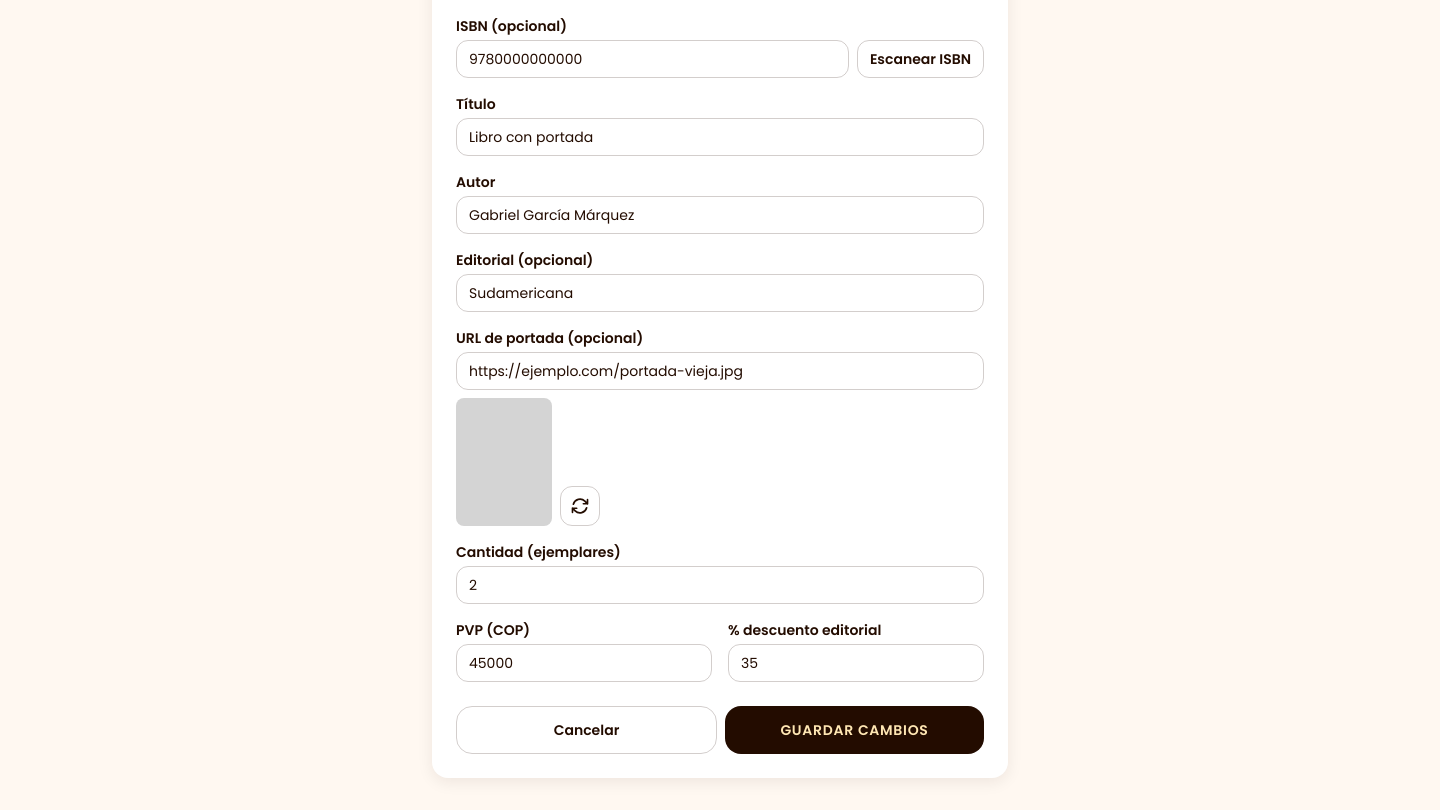
Test case: EditarLibroComponent › selector manual de portada › clic en el botón abre el selector y busca portadas con el isbn actual
The width and height of the screenshot is (1440, 810).
(page scrolled)
Step 1. Click the button named "Buscar otra portada" → point(580, 506), box [560,486,600,526]
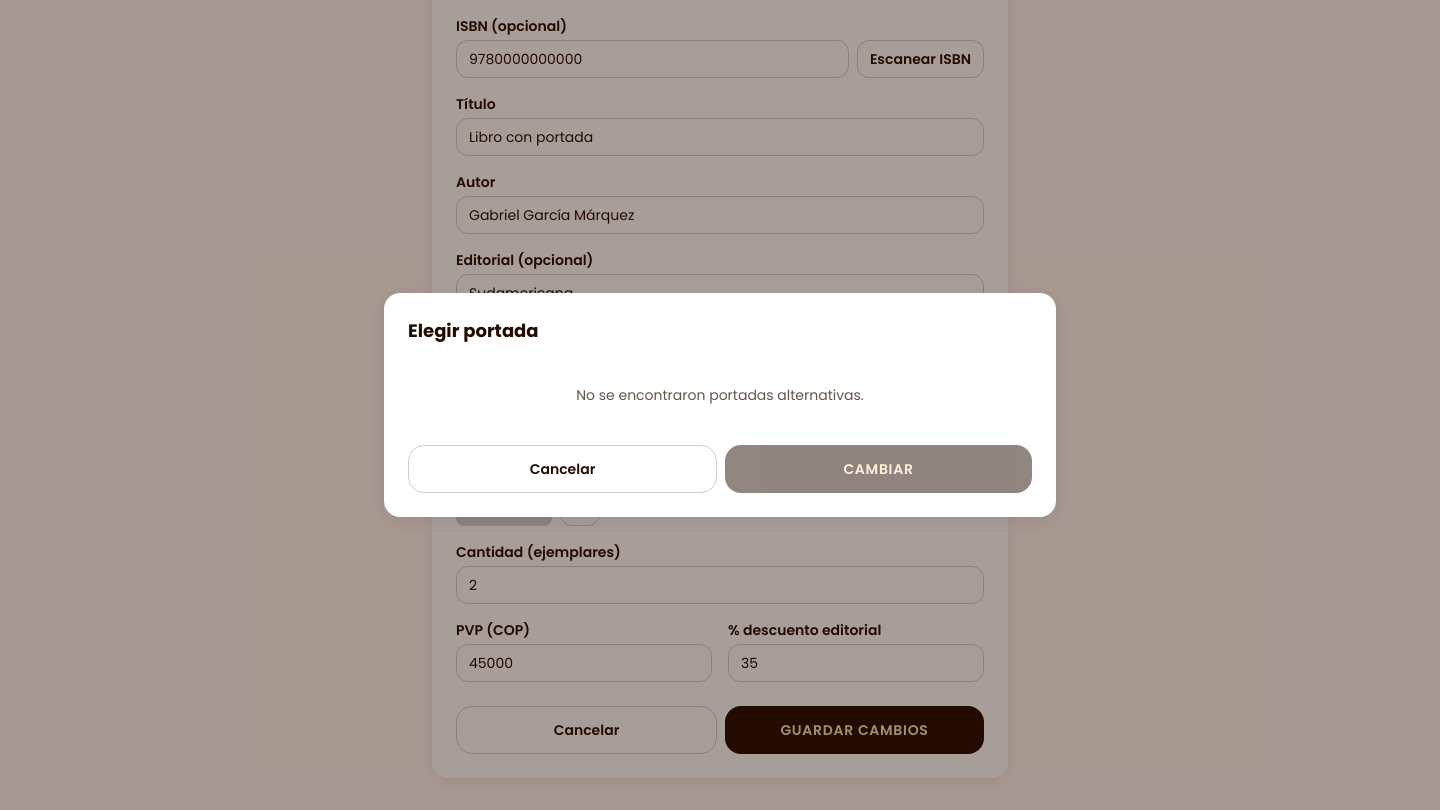
Expected: the text "Elegir portada" is shown, [408,318,539,343]
